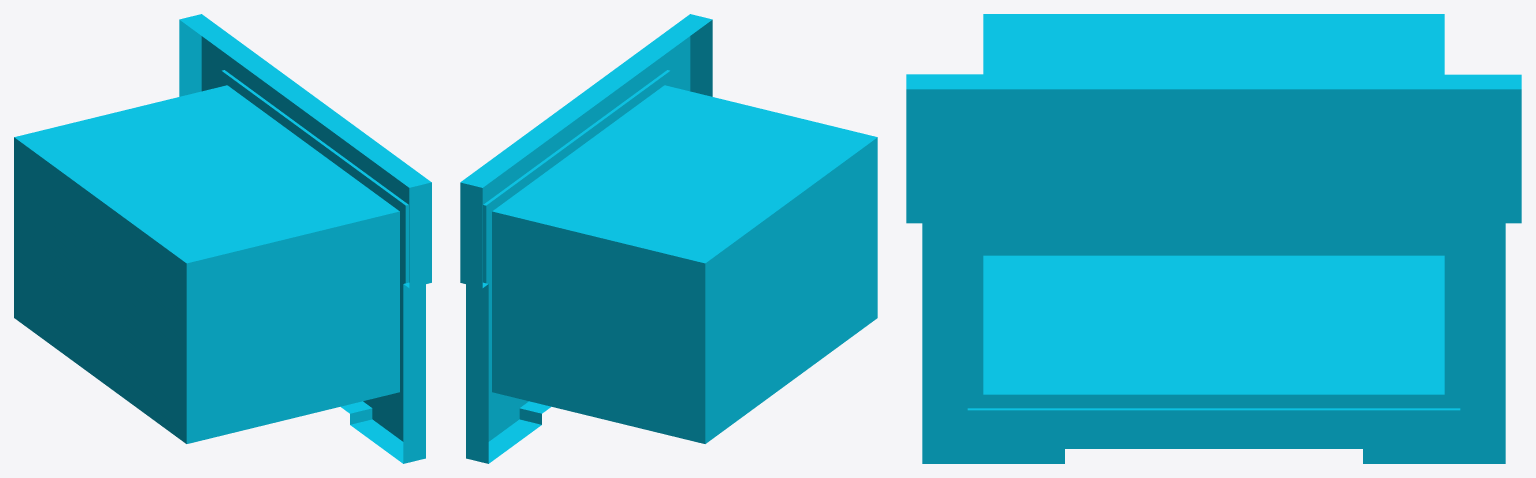
File: Relief03.FBX
3 views of the same model, side by side, from view 1: azimuth 30°, elevation 25°; view 2: azimuth 150°, elevation 25°; view 3: azimuth 270°, elevation 25° (orthographic). The views are drawn at different scales.
Visible parts, largest first — view 1: Plane005; view 2: Plane005; view 3: Plane005.
Boxes of the visible parts, left/top/right/bottom form: Plane005: left=14, top=14, right=431, bottom=463; Plane005: left=460, top=14, right=877, bottom=463; Plane005: left=906, top=14, right=1521, bottom=463.
Bounding box in the file's own units: 229 × 283 × 421.
